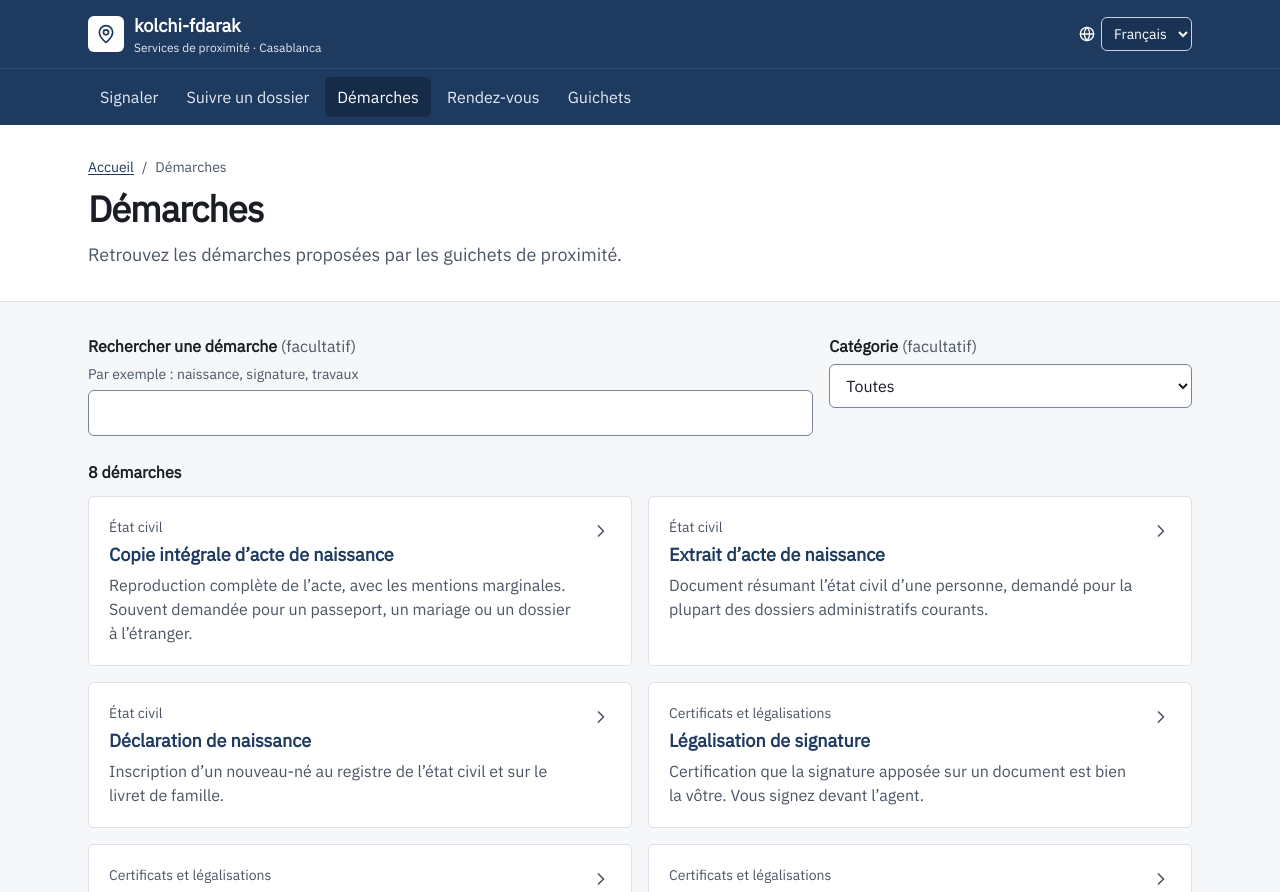
Test case: catalogue des démarches › filtre par catégorie
This screenshot has width=1280, height=892.
Select "Urbanisme" in the dropdown labelled "Catégorie (facultatif)" at (1011, 386), box [829, 364, 1192, 408]
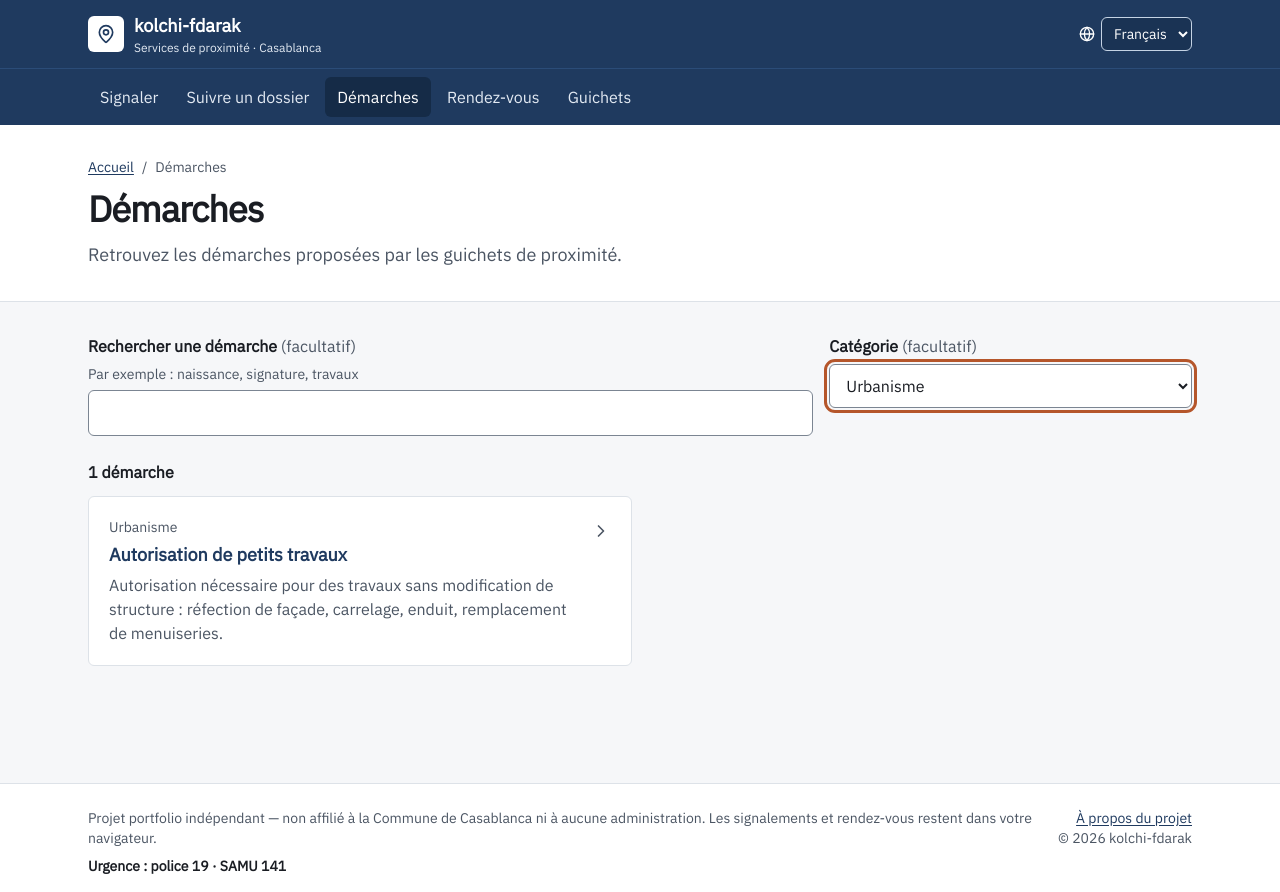
Check: the link "Autorisation de petits travaux" is shown, box [88, 496, 632, 666]
Check: the message reads "1 démarche", box [88, 462, 174, 482]
